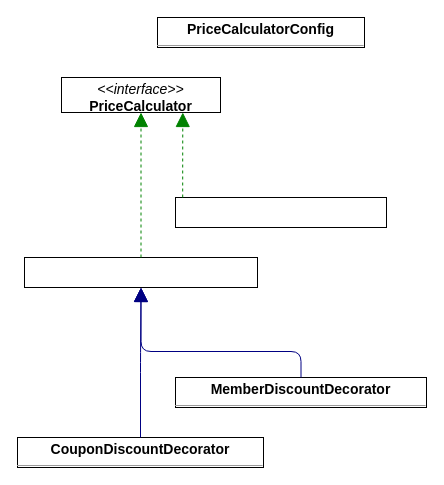
This 444x485 diagram has some shape labels left out. The centre of each missing label's shape, as x and y in pixels:
"DefaultPriceCalculator" belongs at point 280,212.
"PriceCalculatorDecorator" belongs at point 141,272.
